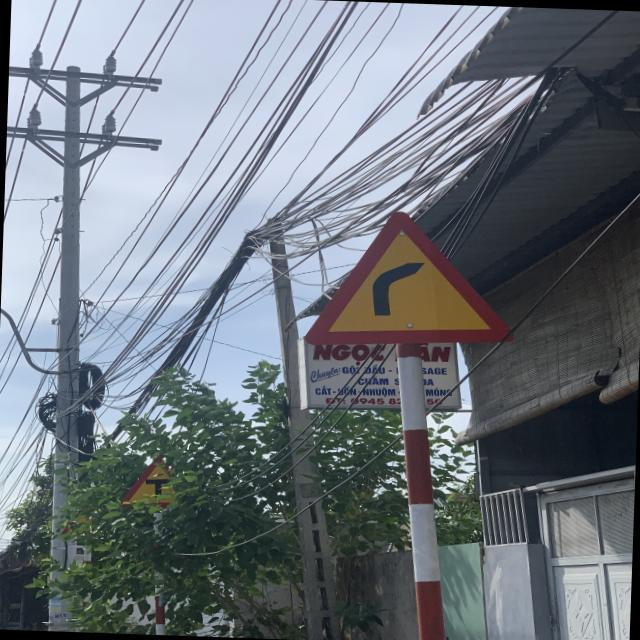Duong_Nguoi_Di_Bo_Cat_Ngang: (307, 208, 515, 350)
